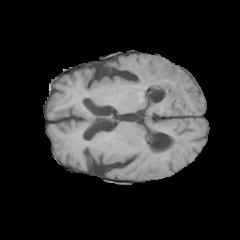glioma: (140, 62, 191, 160)
